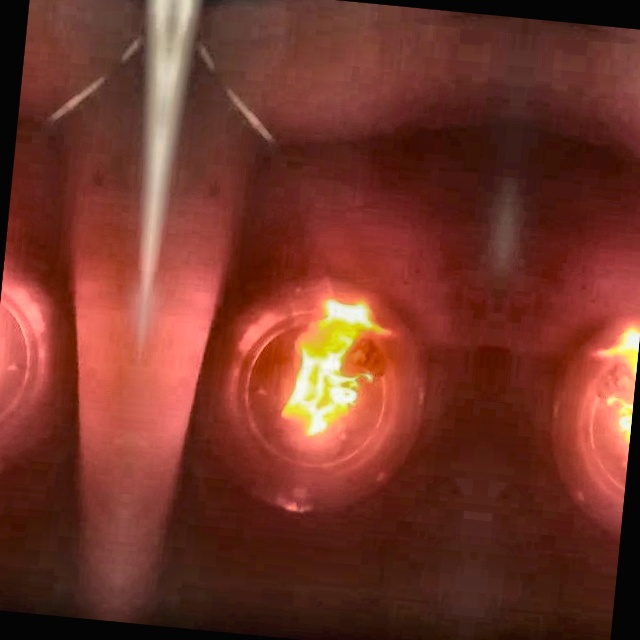fire: (229, 262, 406, 482), (551, 287, 640, 464)
